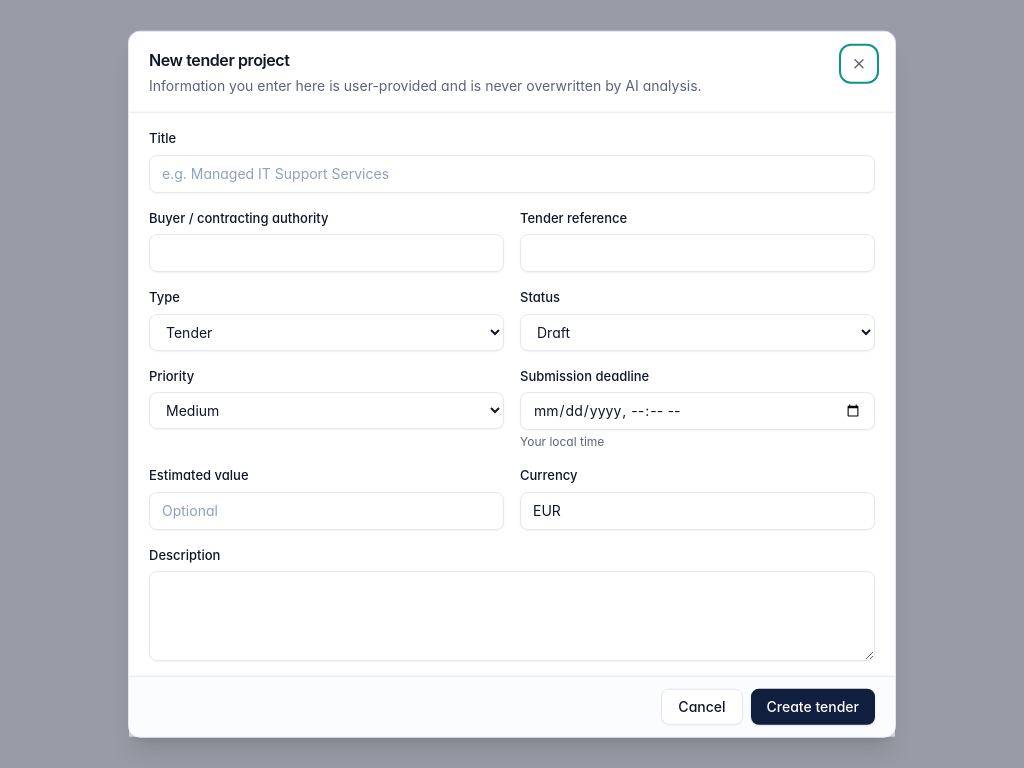
Test: tender form › requires a title and a valid currency
Replace the text in the field labelled "Currency" with "E1" at (698,510), box [520, 491, 875, 529]
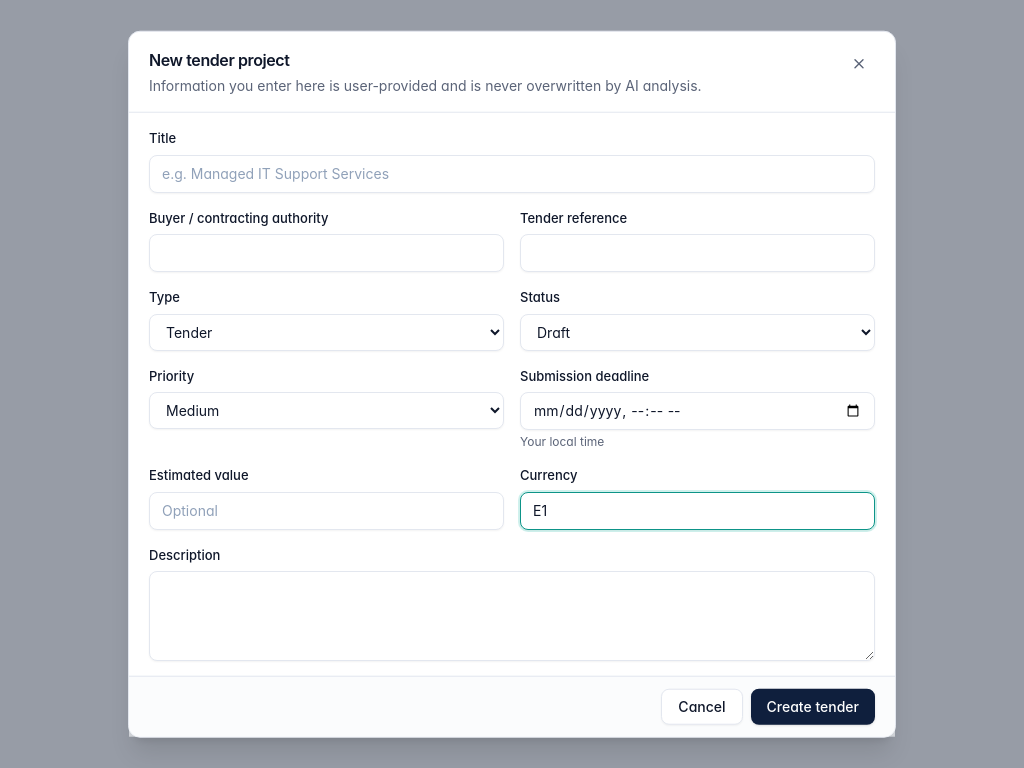
Click the button "Create tender".
click(813, 706)  # box [750, 688, 875, 724]
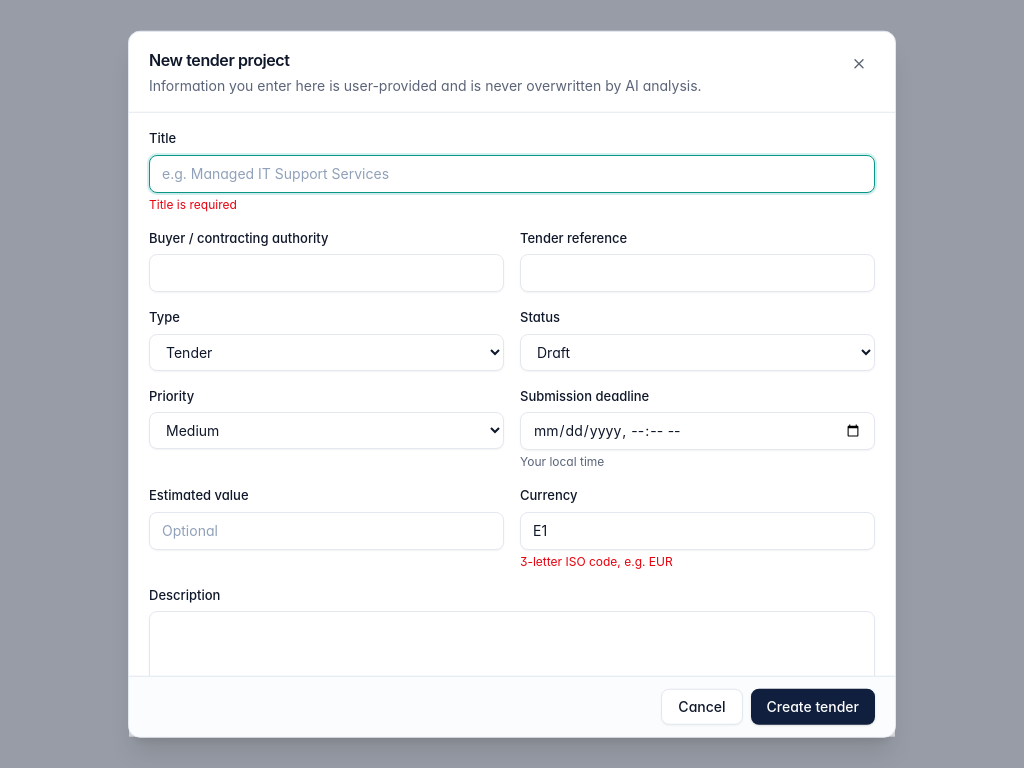
Result: the text "Title is required" is shown at [149, 196, 237, 211]
Result: the text "3-letter ISO code, e.g. EUR" is shown at [520, 553, 673, 568]
